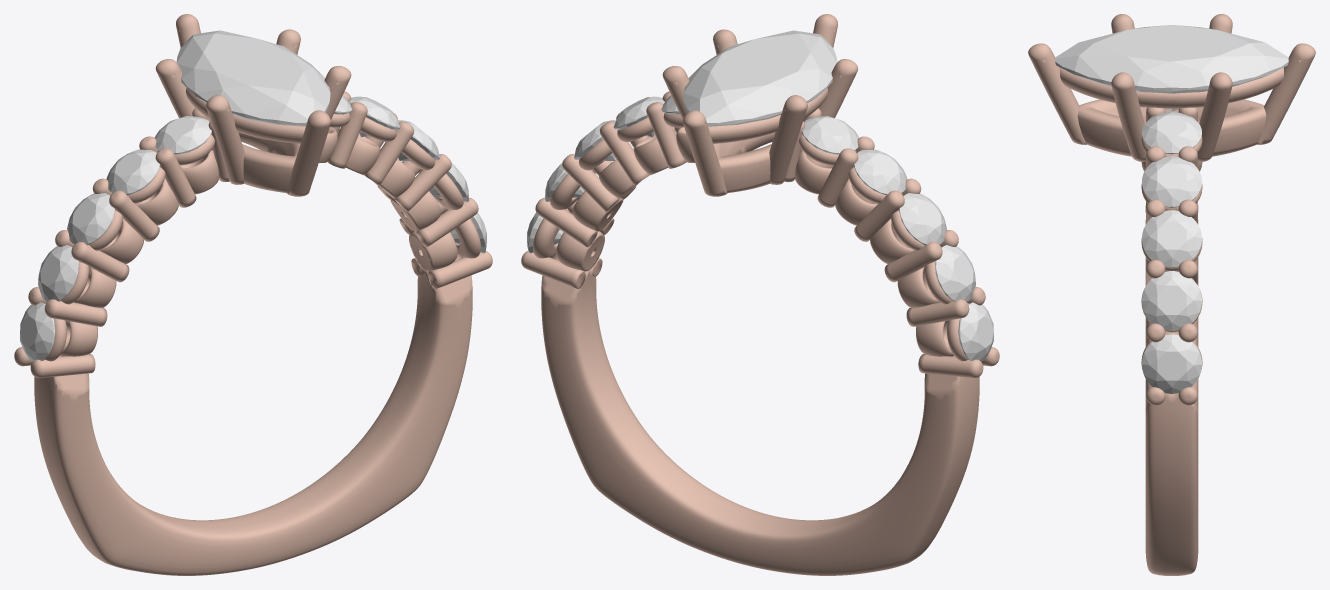
File: diamond-marquise-rosegold-6prong-europeanshank-11stone.glb
3 views of the same model, side by side, from view 1: azimuth 30°, elevation 25°; view 2: azimuth 150°, elevation 25°; view 3: azimuth 270°, elevation 25° (orthographic).
Visible parts, largest first — view 1: metal.001, stone.001, dia.014, dia.013, dia.015, dia.001, dia.016, dia.020; view 2: metal.001, stone.001, dia.014, dia.013, dia.015, dia.001, dia.016, dia.020; view 3: metal.001, stone.001, dia.018, dia.017, dia.019, dia.020, dia.021.
Part boxes in pixels (left/top/right/bottom): metal.001: left=14, top=14, right=492, bottom=575; stone.001: left=176, top=30, right=330, bottom=126; dia.014: left=67, top=193, right=114, bottom=245; dia.013: left=38, top=245, right=78, bottom=301; dia.015: left=106, top=149, right=160, bottom=194; dia.001: left=20, top=302, right=55, bottom=361; dia.016: left=154, top=116, right=211, bottom=154; dia.020: left=349, top=96, right=400, bottom=137; metal.001: left=521, top=14, right=999, bottom=575; stone.001: left=683, top=30, right=837, bottom=126; dia.014: left=899, top=193, right=946, bottom=245; dia.013: left=935, top=245, right=975, bottom=301; dia.015: left=853, top=149, right=907, bottom=195; dia.001: left=958, top=302, right=993, bottom=361; dia.016: left=802, top=116, right=859, bottom=154; dia.020: left=613, top=96, right=664, bottom=137; metal.001: left=1028, top=14, right=1315, bottom=575; stone.001: left=1055, top=25, right=1288, bottom=111; dia.018: left=1142, top=271, right=1201, bottom=330; dia.017: left=1142, top=334, right=1201, bottom=393; dia.019: left=1142, top=210, right=1201, bottom=267; dia.020: left=1142, top=156, right=1201, bottom=207; dia.021: left=1142, top=112, right=1201, bottom=154.
Bounding box in the file's own units: 21.88 × 22.73 × 11.96.
